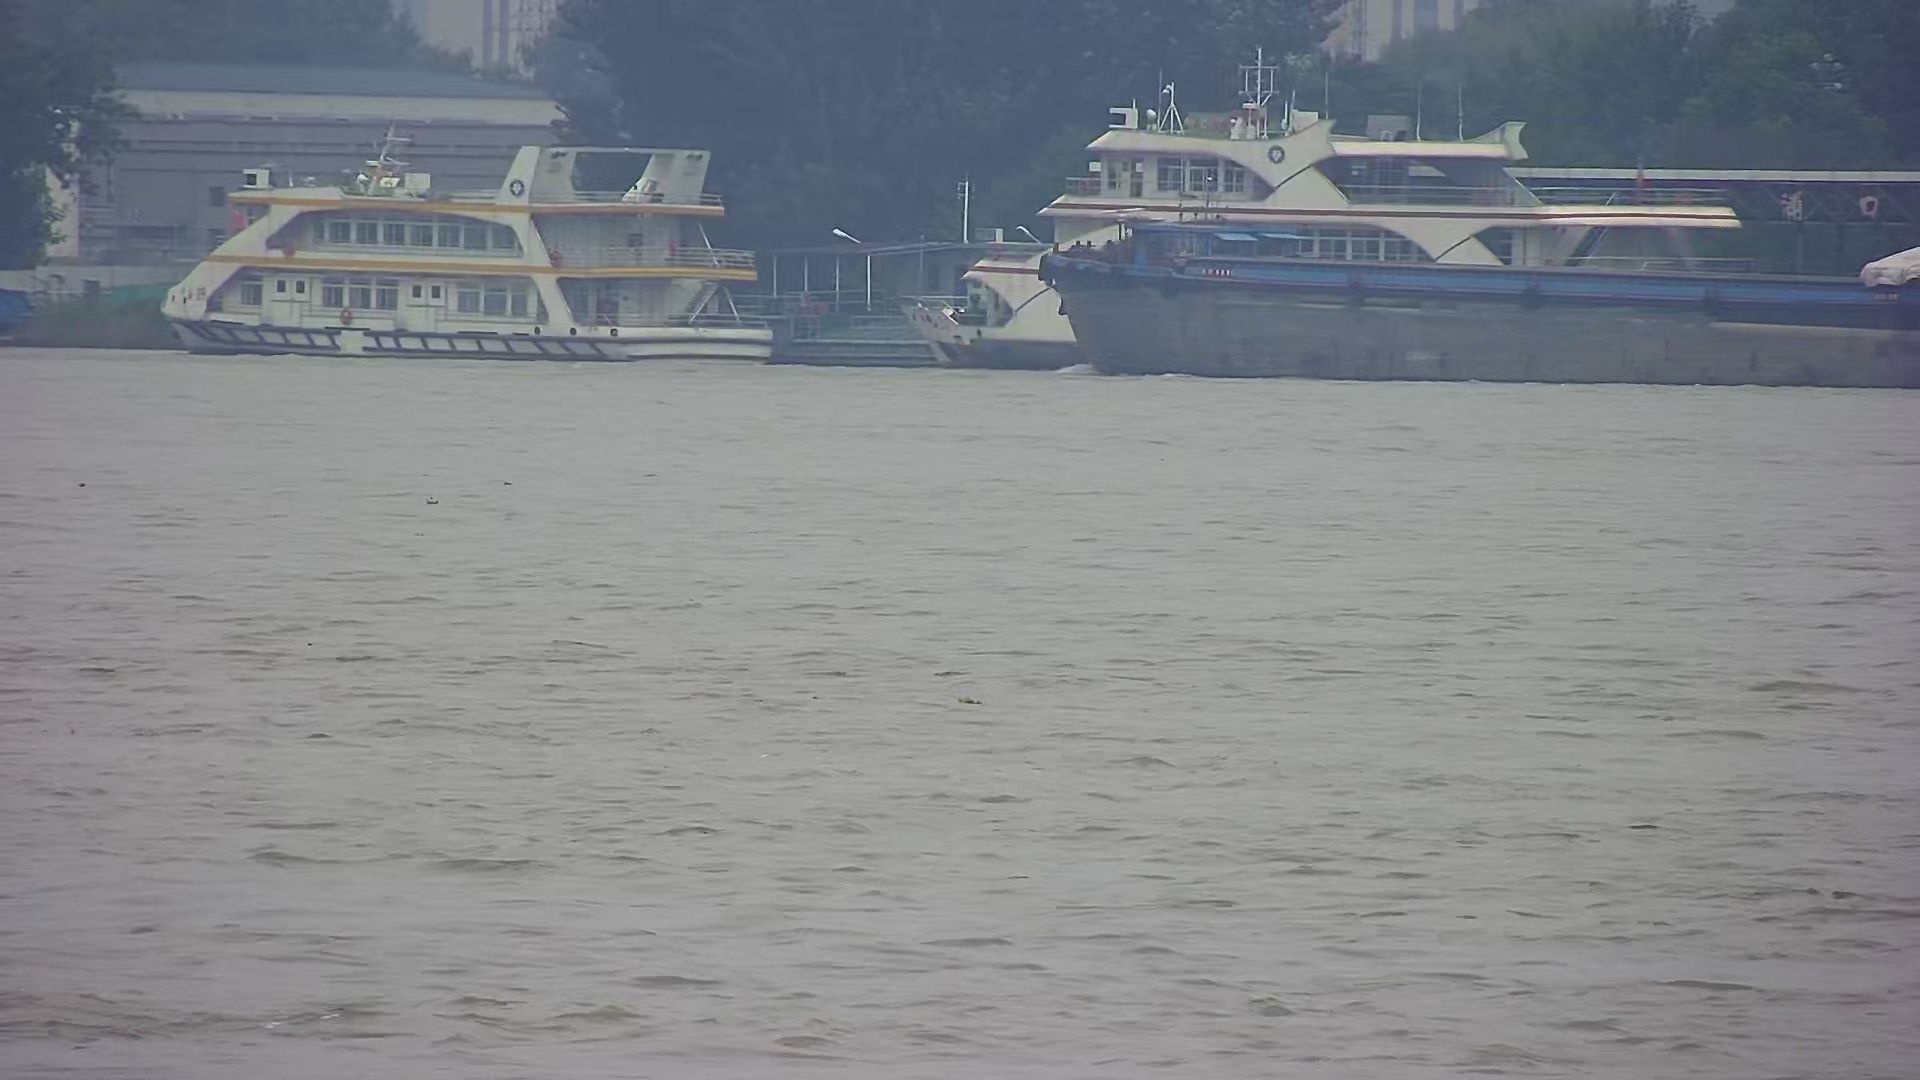ship: (898, 37, 1754, 373), (1027, 204, 1920, 393), (161, 109, 778, 378)
